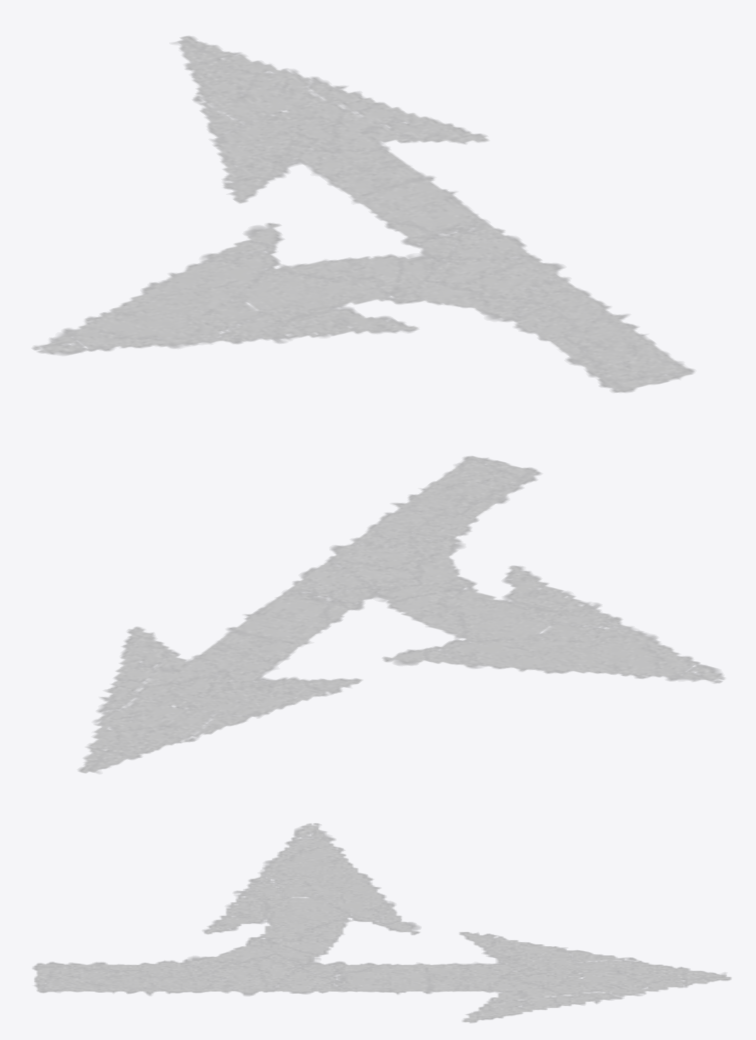
The model's file is Decal_ArrowForwardLeft.glb.
3 renders of one model, top to bottom at view 1: azimuth 30°, elevation 25°; view 2: azimuth 150°, elevation 25°; view 3: azimuth 270°, elevation 25°, orthographic. The views are drawn at different scales.
Parts seen in each view (by area): view 1: Decal_ArrowForwardLeft; view 2: Decal_ArrowForwardLeft; view 3: Decal_ArrowForwardLeft.
Part boxes in pixels (left/top/right/bottom): Decal_ArrowForwardLeft: left=32, top=36, right=694, bottom=392; Decal_ArrowForwardLeft: left=78, top=456, right=724, bottom=772; Decal_ArrowForwardLeft: left=33, top=823, right=731, bottom=1022.
Bounding box in the file's own units: 1.78 × 0 × 2.67.
Materials: 1 (1 with a texture image).
